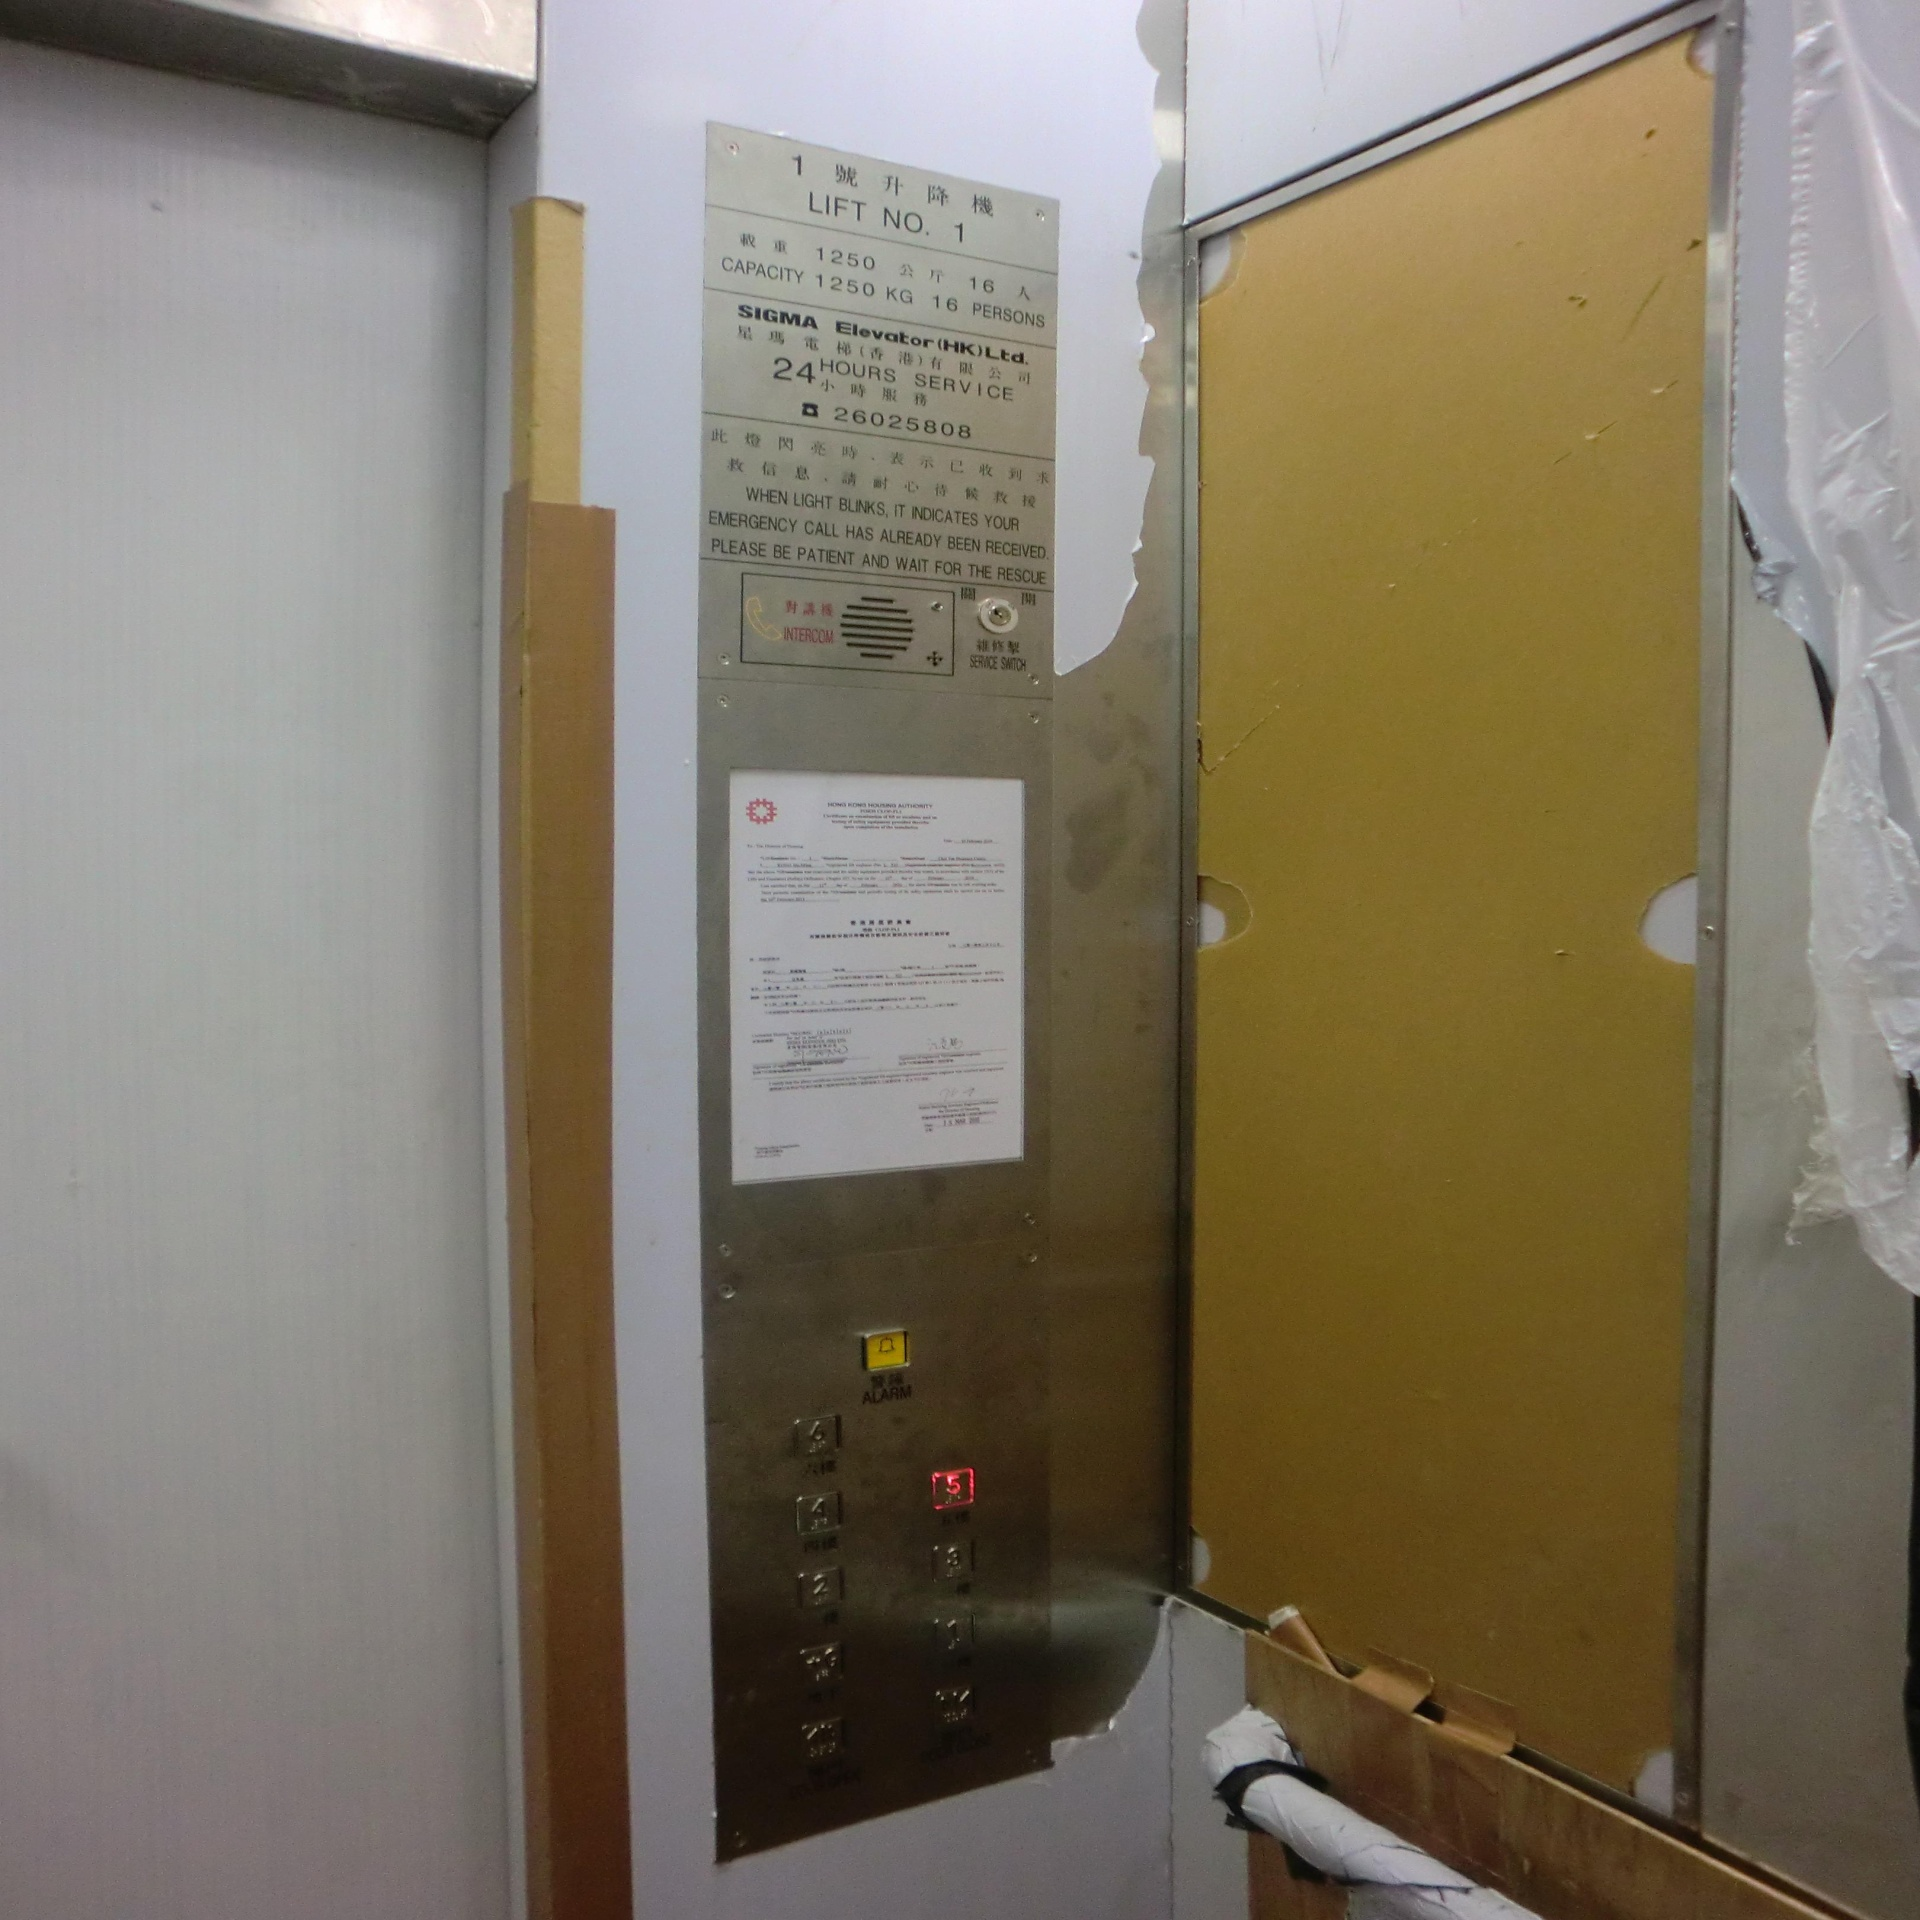1: (934, 1612, 978, 1660)
2: (796, 1563, 846, 1612)
3: (932, 1537, 976, 1582)
4: (795, 1489, 842, 1538)
5: (932, 1468, 976, 1512)
6: (791, 1412, 842, 1459)
alarm: (860, 1326, 909, 1373)
close: (930, 1684, 976, 1727)
open: (795, 1714, 849, 1764)
sG: (798, 1639, 844, 1690)
